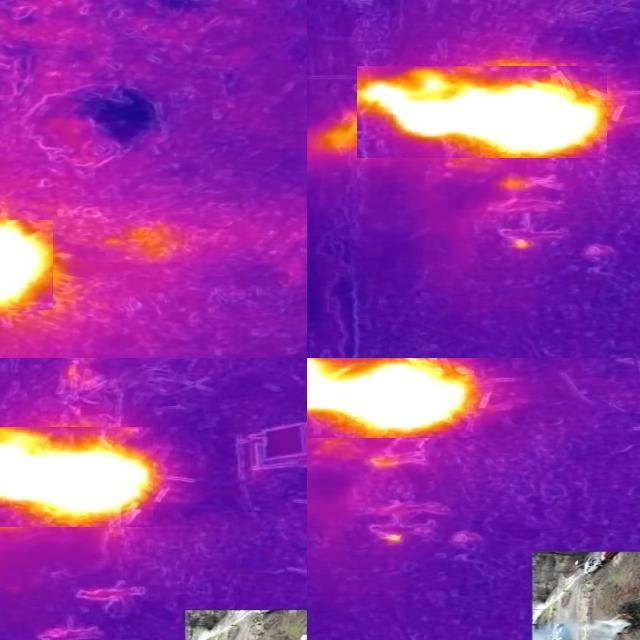fire: (357, 67, 607, 159), (1, 428, 153, 528), (308, 359, 474, 439), (1, 221, 53, 311)
